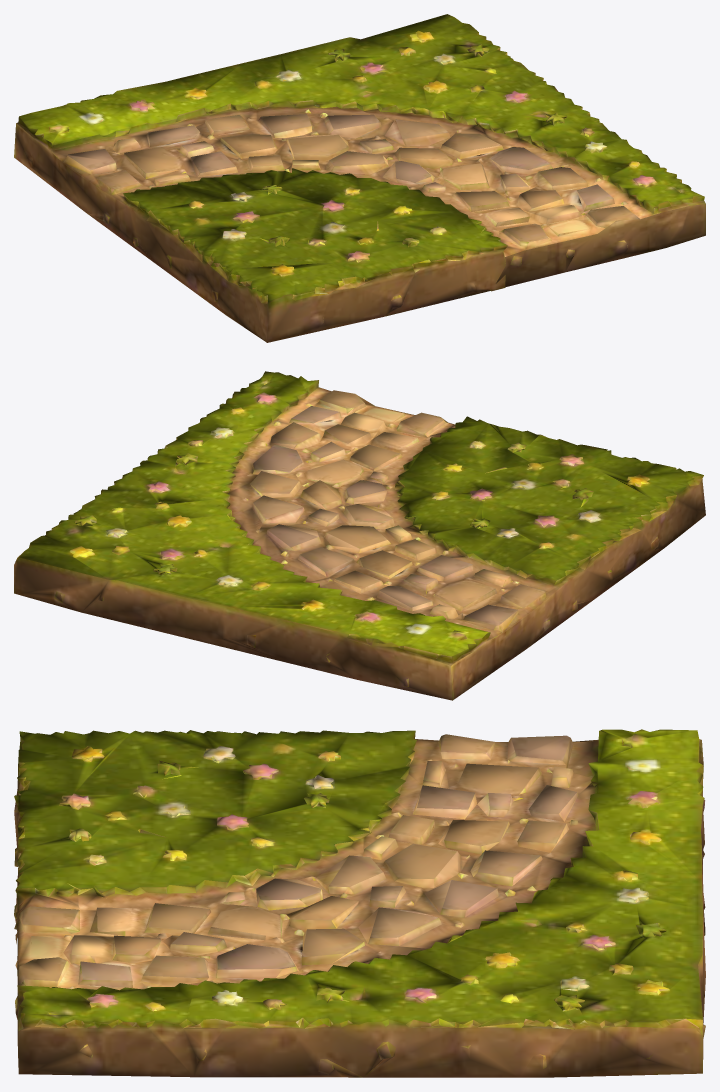
File: path-curve.glb
3 views of the same model, one above another, from view 1: azimuth 30°, elevation 25°; view 2: azimuth 150°, elevation 25°; view 3: azimuth 270°, elevation 25° (orthographic). The views are drawn at different scales.
Visible parts, largest first — view 1: Mesh1.0; view 2: Mesh1.0; view 3: Mesh1.0.
Boxes of the visible parts, x1,y1,x2,y2 form: Mesh1.0: (14, 14, 705, 342); Mesh1.0: (14, 371, 705, 700); Mesh1.0: (14, 729, 705, 1077).
Size of the model in its own units: 1.9 by 0.2101 by 1.9.
1 material, 1 textured.
